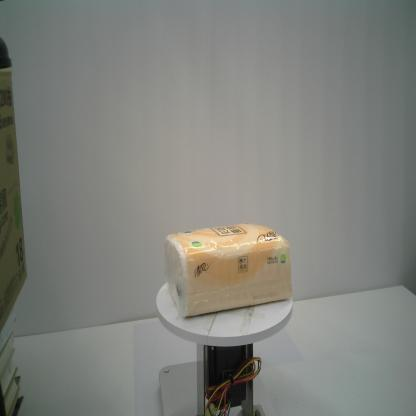Tissue: (164, 222, 293, 318)
